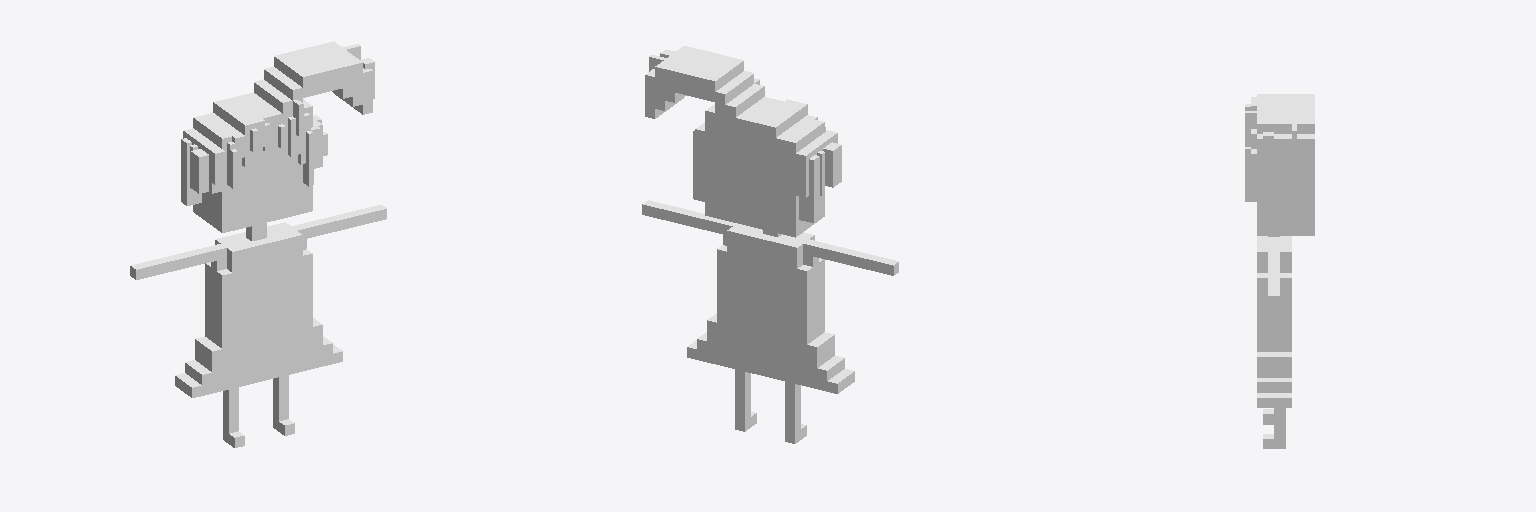
The model's file is Kid4.obj.
The picture shows the model from 3 angles: view 1: azimuth 30°, elevation 25°; view 2: azimuth 150°, elevation 25°; view 3: azimuth 270°, elevation 25°; orthographic projection.
Parts seen in each view (by area): view 1: Kid4; view 2: Kid4; view 3: Kid4.
Boxes of the visible parts, box(x1,y1,x2,y2) form: Kid4: box(130, 41, 386, 447); Kid4: box(642, 46, 898, 443); Kid4: box(1245, 94, 1314, 448).
Bounding box in the file's own units: 50 × 68 × 12.